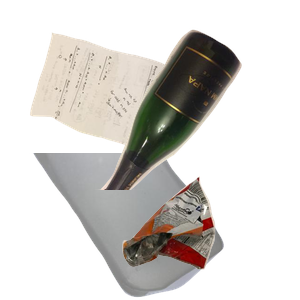glass: (87, 27, 300, 207)
paper: (27, 30, 203, 178)
plastic: (29, 153, 245, 300)
trash: (120, 174, 300, 300)
